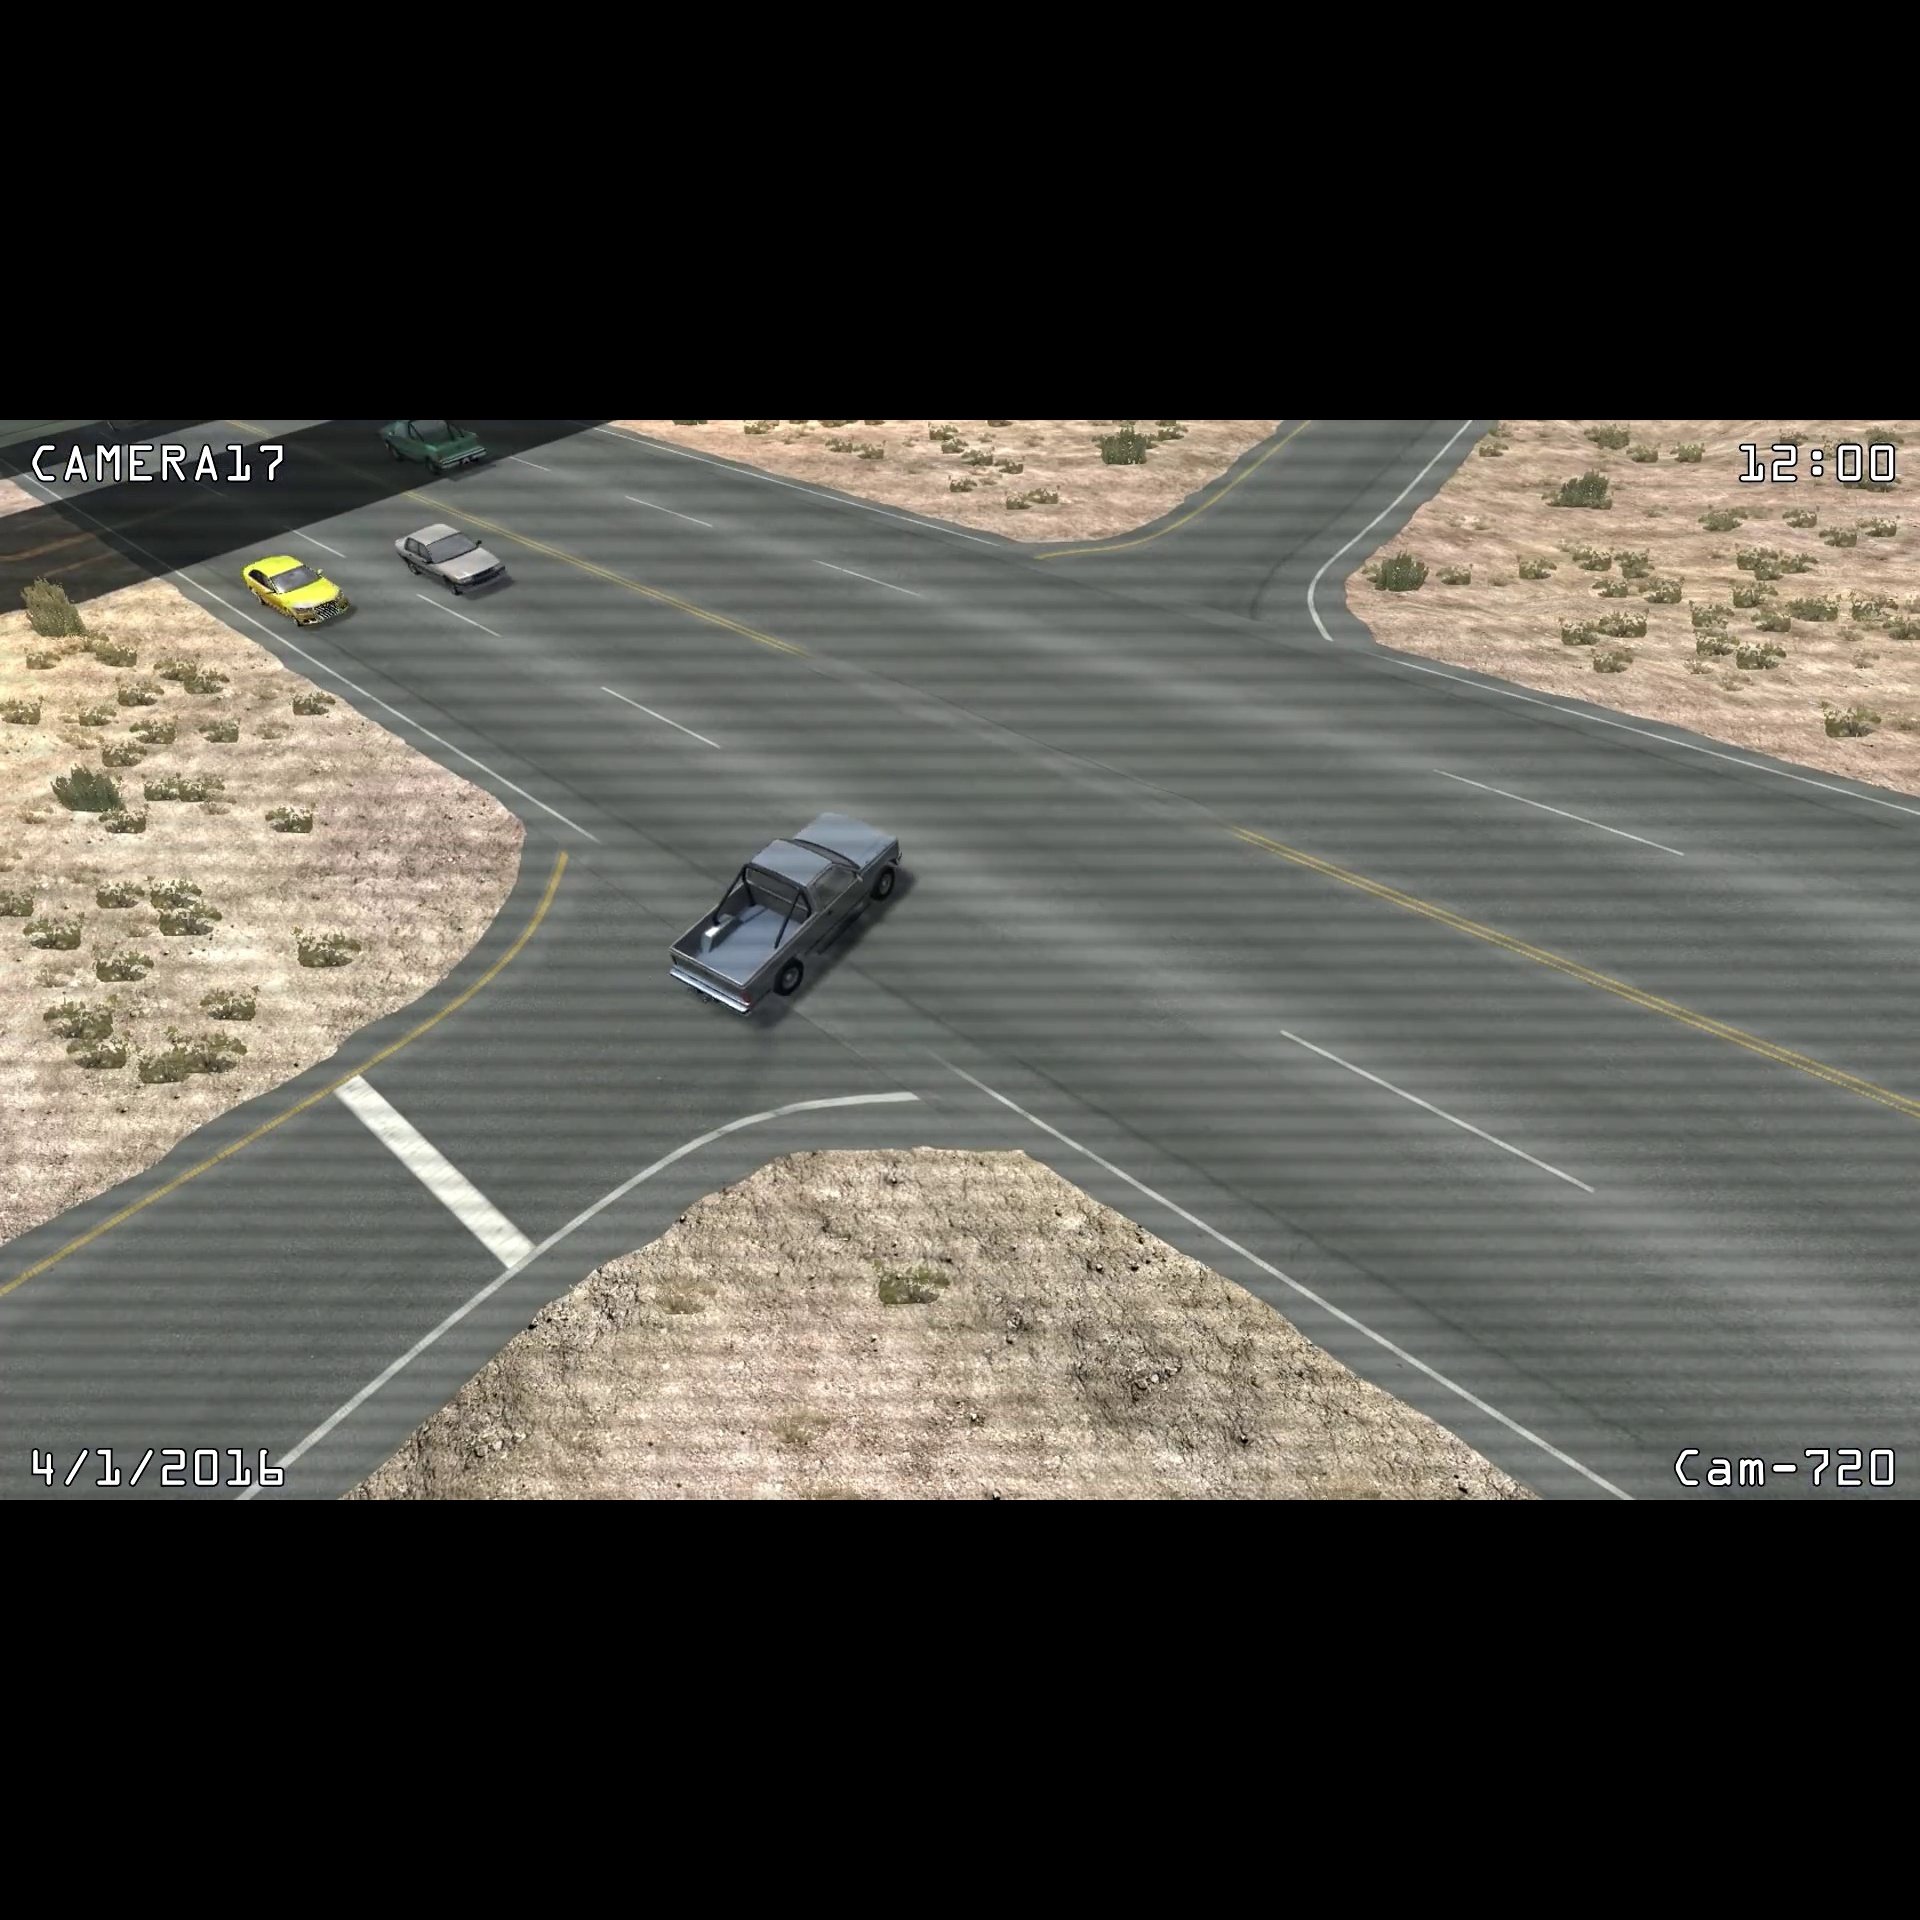vehicle: (659, 798, 907, 1023), (236, 549, 357, 635), (387, 519, 510, 600), (369, 418, 492, 482)
